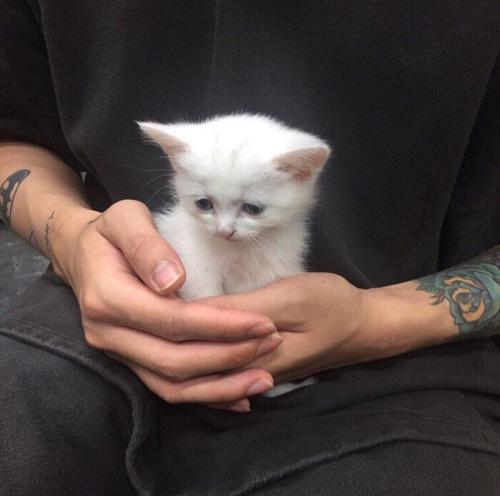cat: (145, 101, 326, 273)
